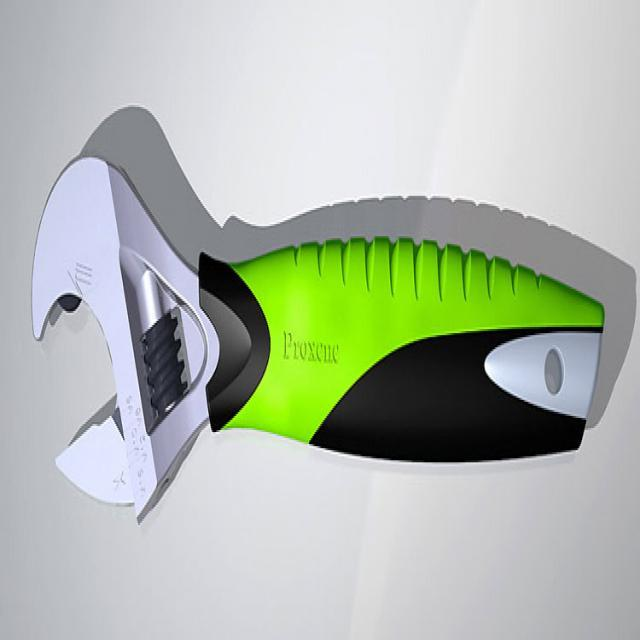wrench: (27, 145, 610, 538)
